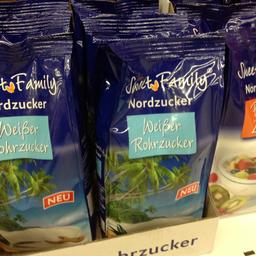sugar: (95, 34, 224, 236), (0, 30, 93, 249)
